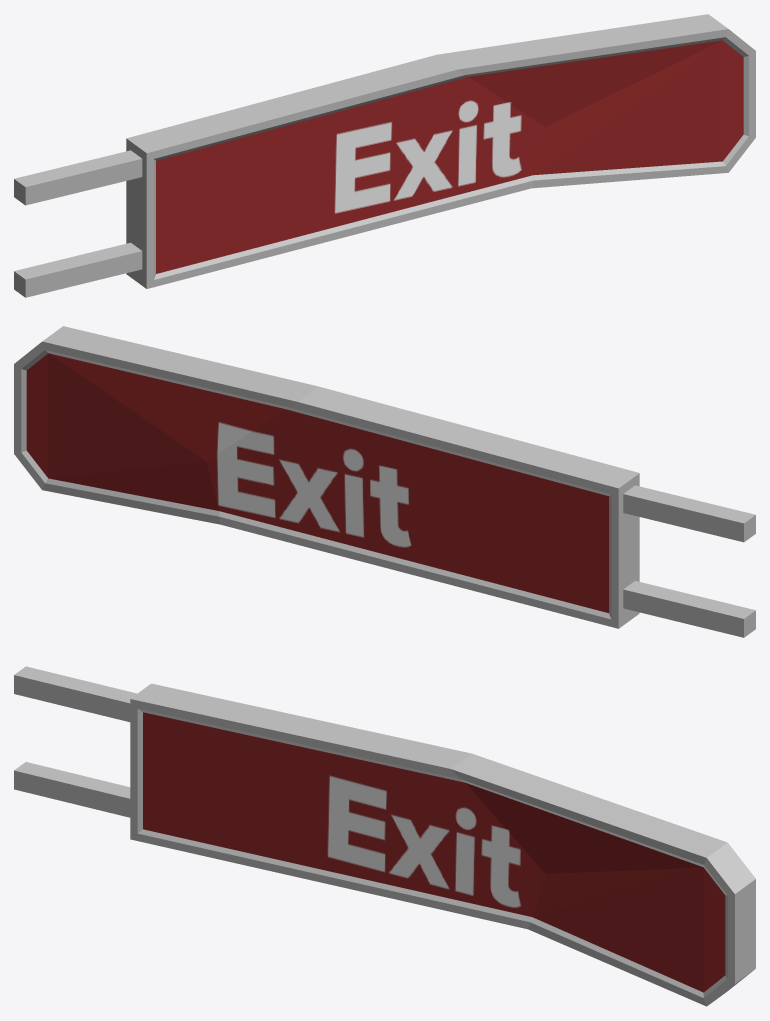
File: SM_Direction_Indicator_04_A.fbx
3 views of the same model, one above another, from view 1: azimuth 30°, elevation 25°; view 2: azimuth 150°, elevation 25°; view 3: azimuth 330°, elevation 25° (orthographic). The views are drawn at different scales.
Parts seen in each view (by area): view 1: SM_Direction_Indicator_04_A; view 2: SM_Direction_Indicator_04_A; view 3: SM_Direction_Indicator_04_A.
Part boxes in pixels (bbox=[...]): SM_Direction_Indicator_04_A: bbox=[14, 14, 755, 297]; SM_Direction_Indicator_04_A: bbox=[14, 326, 755, 637]; SM_Direction_Indicator_04_A: bbox=[14, 666, 755, 1006].
Size of the model in its own units: 73.76 by 15.55 by 5.83.
